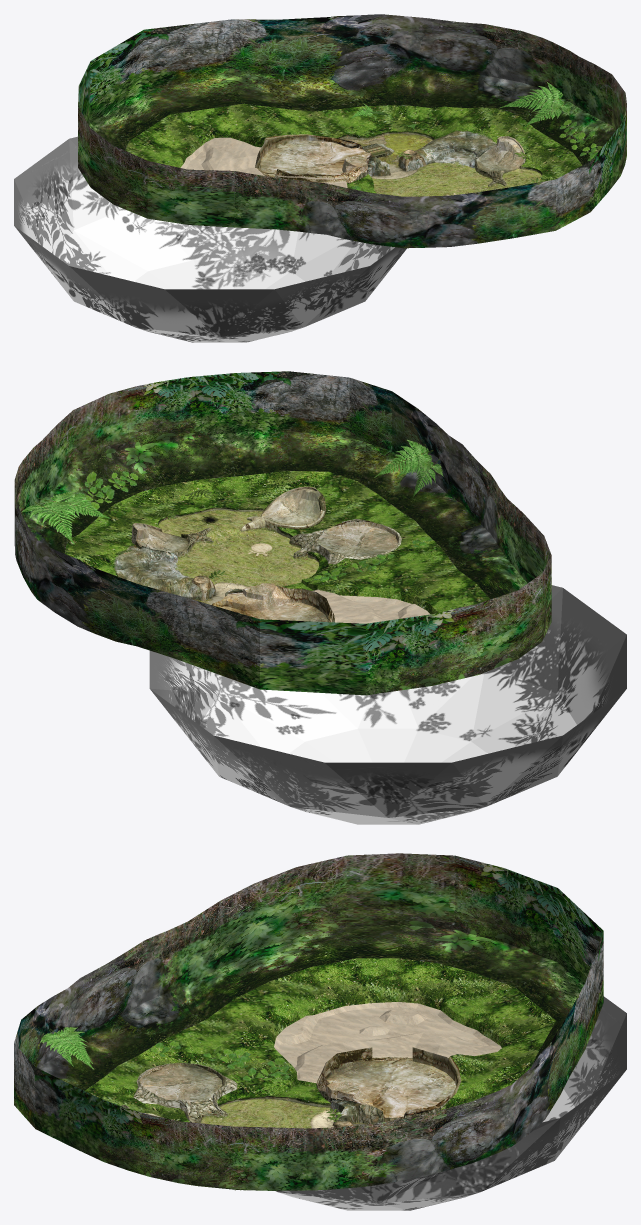
Rendered from CrashSiteDWTEST.fbx.
3 renders of one model, top to bottom at view 1: azimuth 30°, elevation 25°; view 2: azimuth 150°, elevation 25°; view 3: azimuth 270°, elevation 25°, orthographic. The views are drawn at different scales.
Visible parts, largest first — view 1: Mesh_0010; view 2: Mesh_0010; view 3: Mesh_0010.
Part boxes in pixels (<box>): Mesh_0010: <box>14,14,626,342</box>; Mesh_0010: <box>14,371,626,824</box>; Mesh_0010: <box>14,853,626,1210</box>.
Size of the model in its own units: 41505 by 17027 by 35835.
